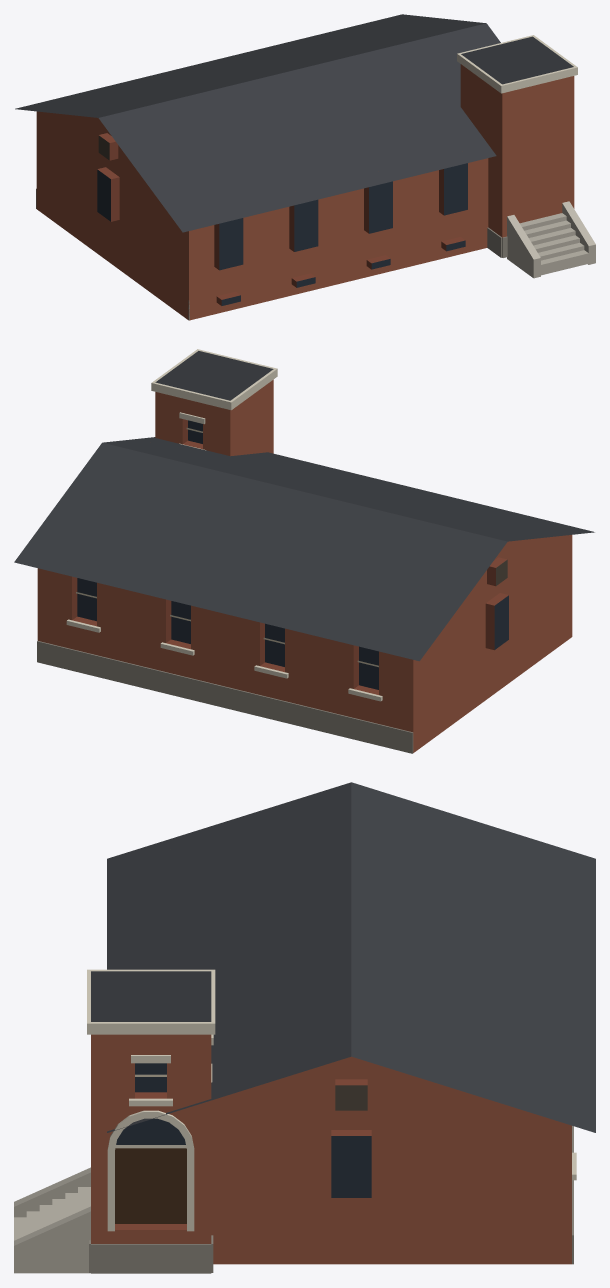
Rendered from ch-duncan-chapel-1961.glb.
3 views of the same model, one above another, from view 1: azimuth 30°, elevation 25°; view 2: azimuth 150°, elevation 25°; view 3: azimuth 270°, elevation 25° (orthographic). The views are drawn at different scales.
Visible parts, largest first — view 1: ch_roof, ch_brick, ch_glass, ch_conc, ch_roof2, ch_brick2, ch_trim, ch_base; view 2: ch_roof, ch_brick, ch_base, ch_glass, ch_roof2, ch_trim, ch_brick2; view 3: ch_roof, ch_brick, ch_conc, ch_roof2, ch_trim, ch_door, ch_glass, ch_base, ch_brick2, ch_louvre.
Part boxes in pixels (x1,y1,x2,y2): ch_roof: (15, 14, 500, 232); ch_brick: (36, 64, 574, 320); ch_glass: (97, 163, 467, 305); ch_conc: (507, 201, 595, 278); ch_roof2: (461, 36, 573, 84); ch_brick2: (97, 133, 465, 305); ch_trim: (457, 35, 577, 93); ch_base: (36, 188, 507, 320); ch_roof: (14, 437, 594, 661); ch_brick: (37, 379, 572, 752); ch_base: (37, 641, 413, 753); ch_glass: (77, 420, 508, 689); ch_roof2: (155, 351, 273, 400); ch_trim: (66, 349, 382, 701); ch_brick2: (72, 419, 508, 694); ch_roof: (107, 782, 595, 1132); ch_brick: (91, 1034, 571, 1264); ch_conc: (14, 1167, 90, 1273); ch_roof2: (91, 971, 211, 1021); ch_trim: (87, 969, 576, 1231); ch_door: (115, 1148, 186, 1223); ch_glass: (116, 1063, 371, 1197); ch_base: (89, 1126, 573, 1273); ch_brick2: (115, 1079, 371, 1229); ch_louvre: (335, 1085, 367, 1110).
Bounding box in the file's own units: 16.22 × 7.01 × 14.52.
